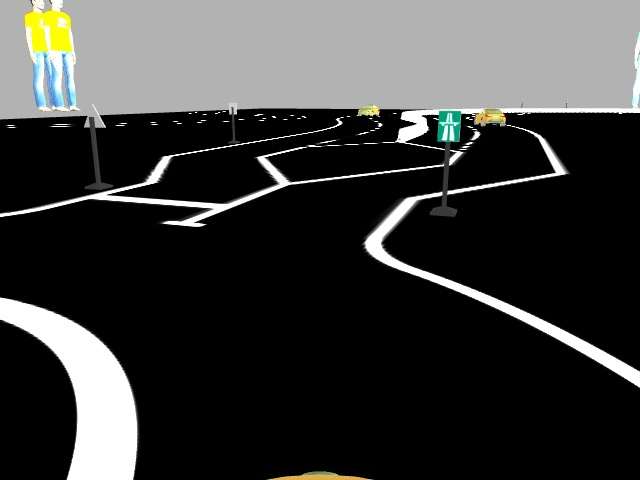HighwayEntrance: (435, 107, 461, 142)
